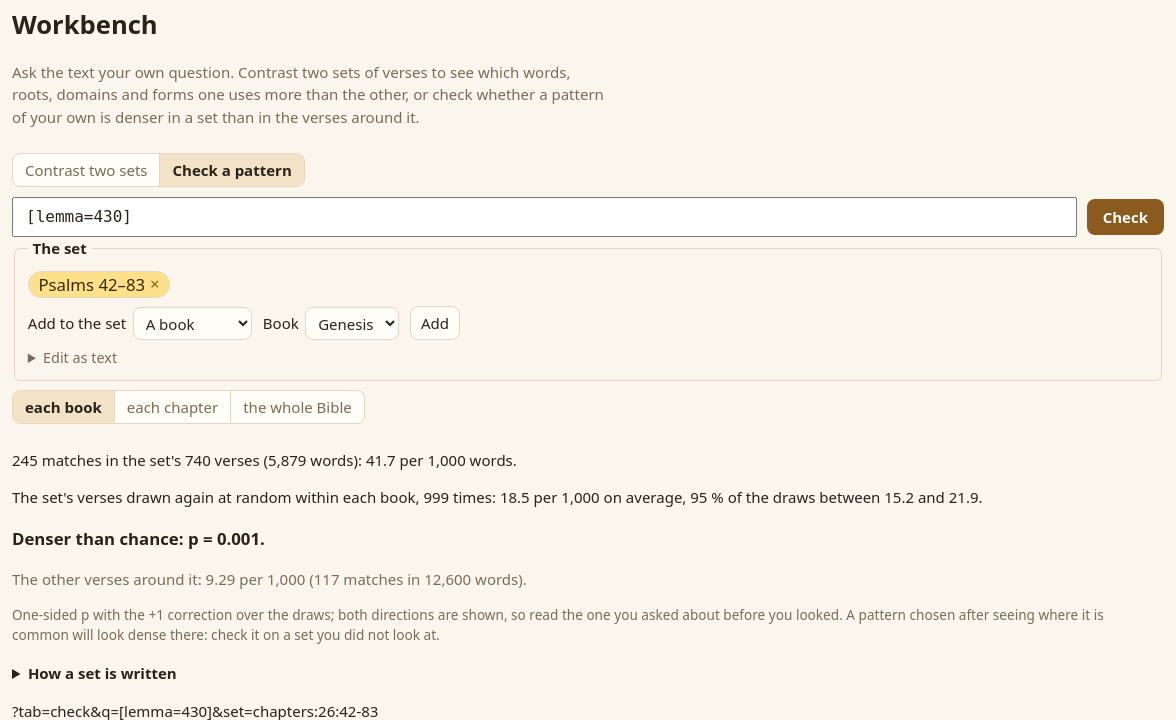
Test case: WorkbenchPage: check › checks a pattern on a set and reads the verdict
expect the text "Denser than chance: p = 0.001." is shown: met, box top-left (12, 527), bottom-right (265, 550)
expect the text "245 matches in the set's 740 verses (5,879 words): 41.7 per 1,000 words" is shown: met, box top-left (12, 450), bottom-right (517, 470)
Click the radio button labelled "each chapter" at coordinates (172, 407), box top-left (114, 391), bottom-right (230, 423)
(page scrolled)
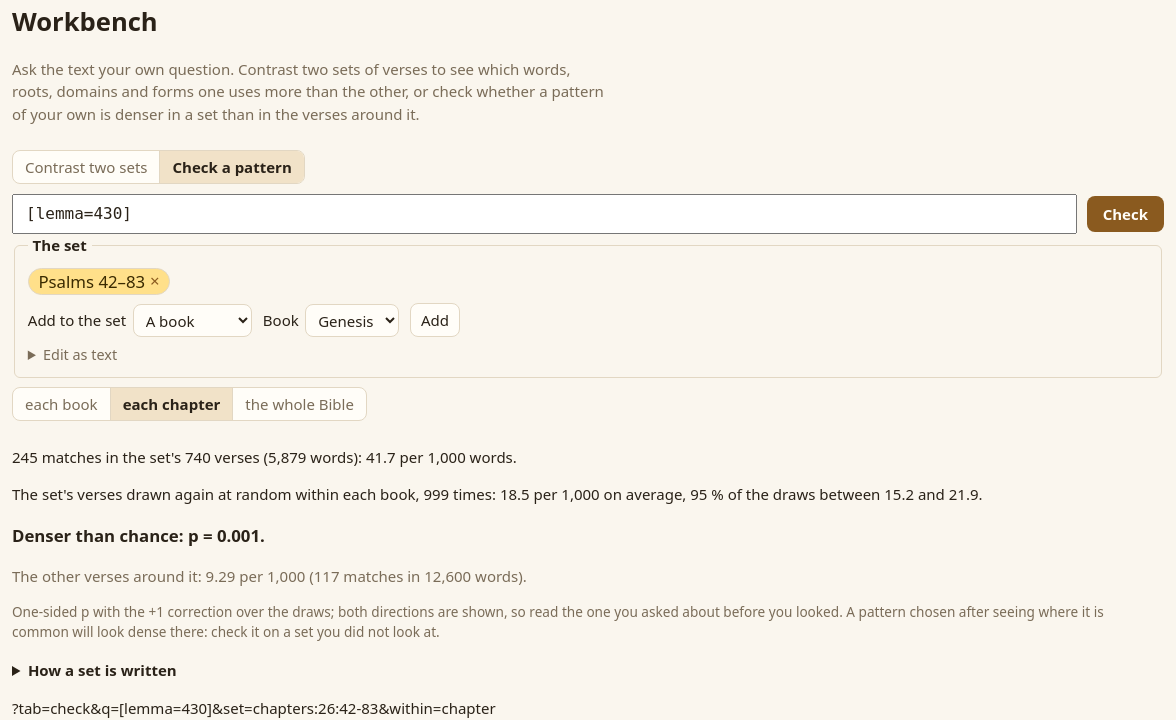
expect the text with test id "loc" shows "within=chapter": met, box top-left (12, 698), bottom-right (496, 718)
